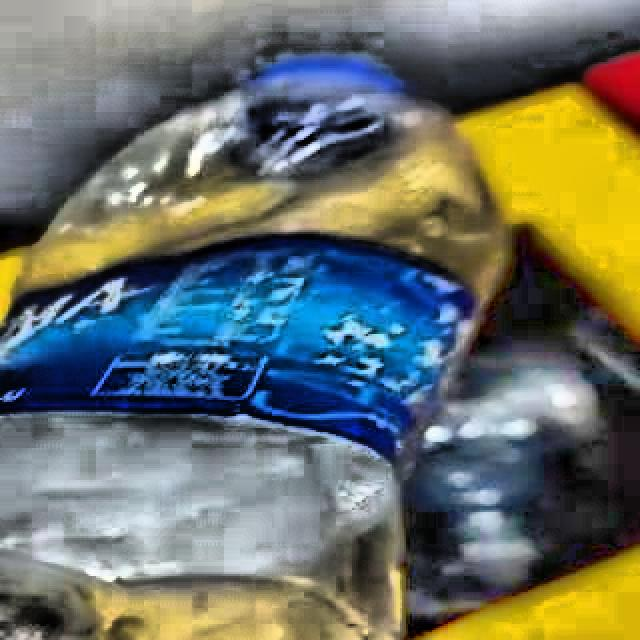plastic: (0, 59, 509, 640)
